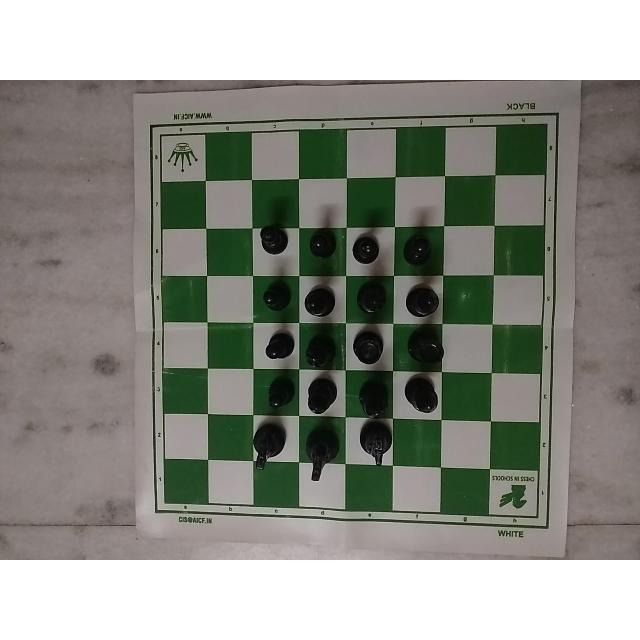black-bishop: (392, 368, 441, 418), (404, 281, 445, 323), (354, 375, 390, 420), (300, 376, 339, 417), (296, 288, 344, 320), (297, 334, 337, 369), (353, 284, 389, 322)
black-knight: (298, 428, 345, 480), (356, 414, 396, 469), (250, 425, 289, 476)
black-pawn: (306, 228, 352, 270), (347, 229, 387, 271), (259, 373, 298, 414), (400, 231, 436, 271), (260, 280, 296, 319), (261, 330, 297, 366), (255, 221, 289, 259)
black-rook: (404, 332, 448, 370), (346, 330, 385, 370)
